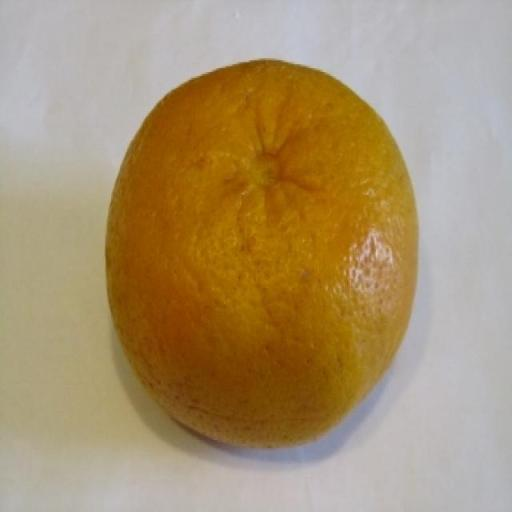fruit: (107, 61, 417, 446)
